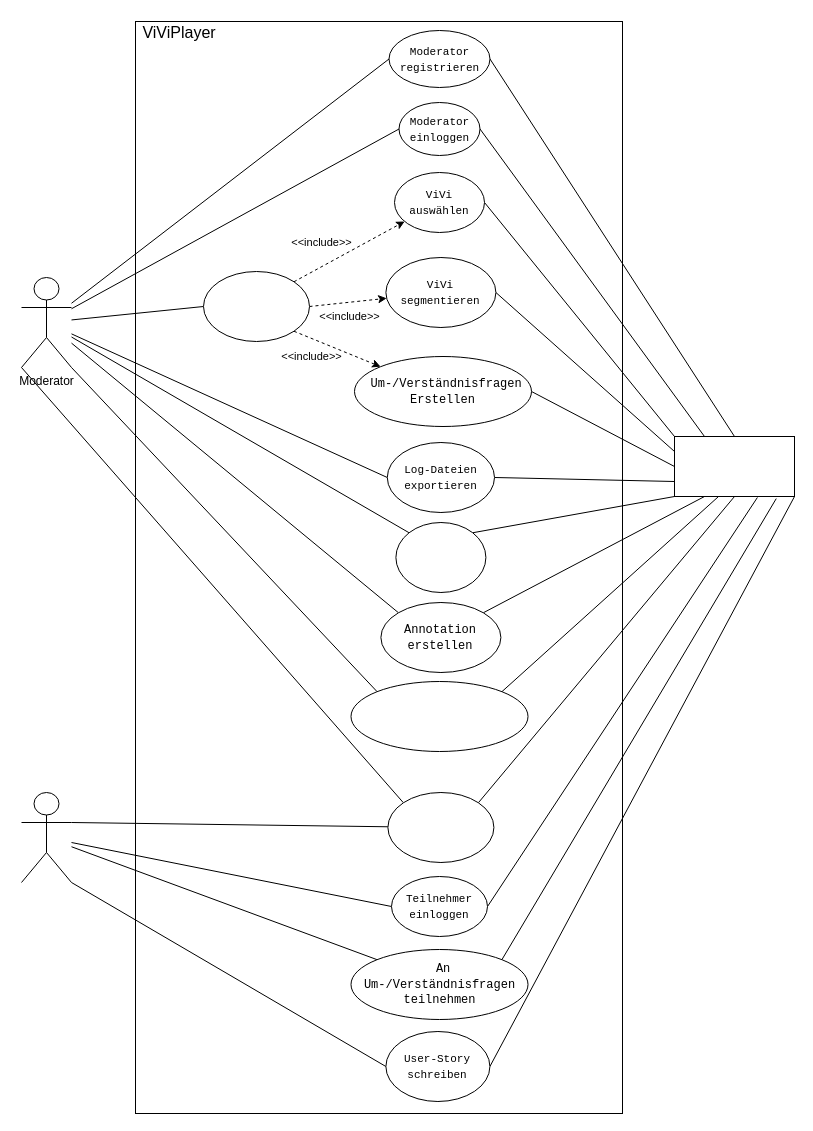
The diagram is 813 pixels wide and 1131 high, and some of its shapes have lost their labels. The shapes that lost their labels are listed below. From the top down, each one's centre as x and y in pixels, then its label:
At (x=256, y=306): "Session vorbereiten".
At (x=734, y=466): "<<actor>> Server- Dateisystem".
At (x=440, y=557): "ViVi navigieren".
At (x=439, y=716): "Um-/Verständnisfragen in Session stellen".
At (x=46, y=837): "Teilnehmer".
At (x=440, y=827): "In Session kommentieren".
